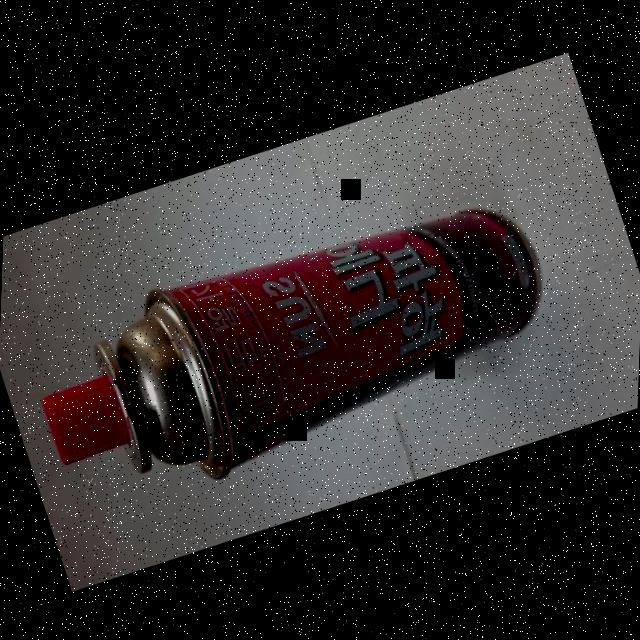chemical_spray_can: (0, 139, 595, 555)
